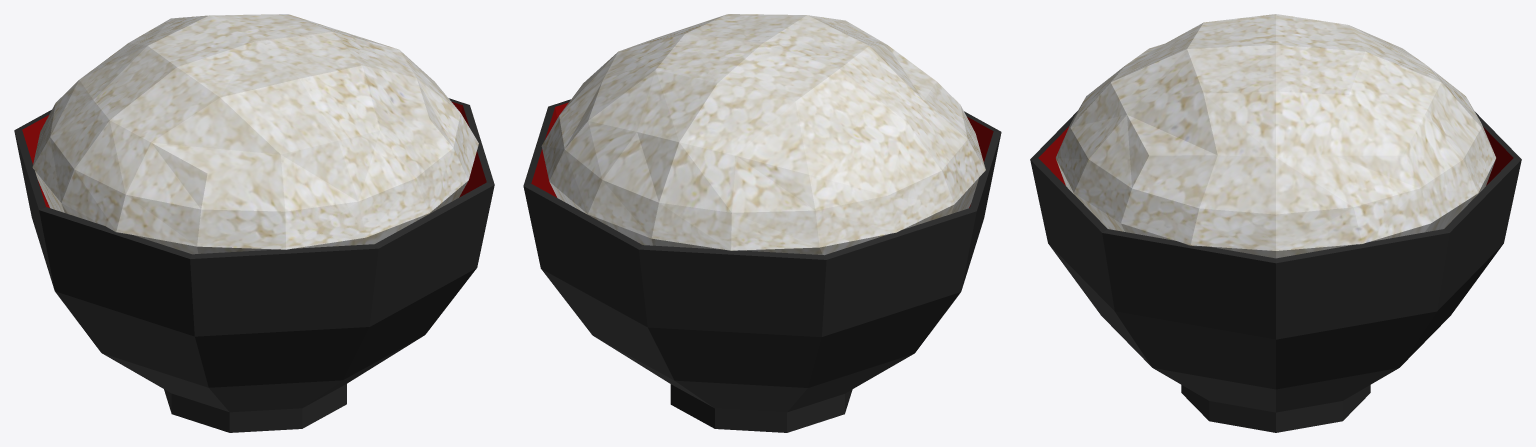
The model's file is 77faa4f8-beab-40a3-9446-17cf6cb11df6.glb.
3 views of the same model, side by side, from view 1: azimuth 30°, elevation 25°; view 2: azimuth 150°, elevation 25°; view 3: azimuth 270°, elevation 25° (orthographic).
Visible parts, largest first — view 1: Node; view 2: Node; view 3: Node.
Boxes of the visible parts, x1=… form: Node: x1=14, y1=14, x2=494, y2=432; Node: x1=523, y1=14, x2=1001, y2=432; Node: x1=1030, y1=14, x2=1521, y2=432.
Size of the model in its own units: 2.07 by 1.62 by 2.07.
3 materials, 1 textured.
